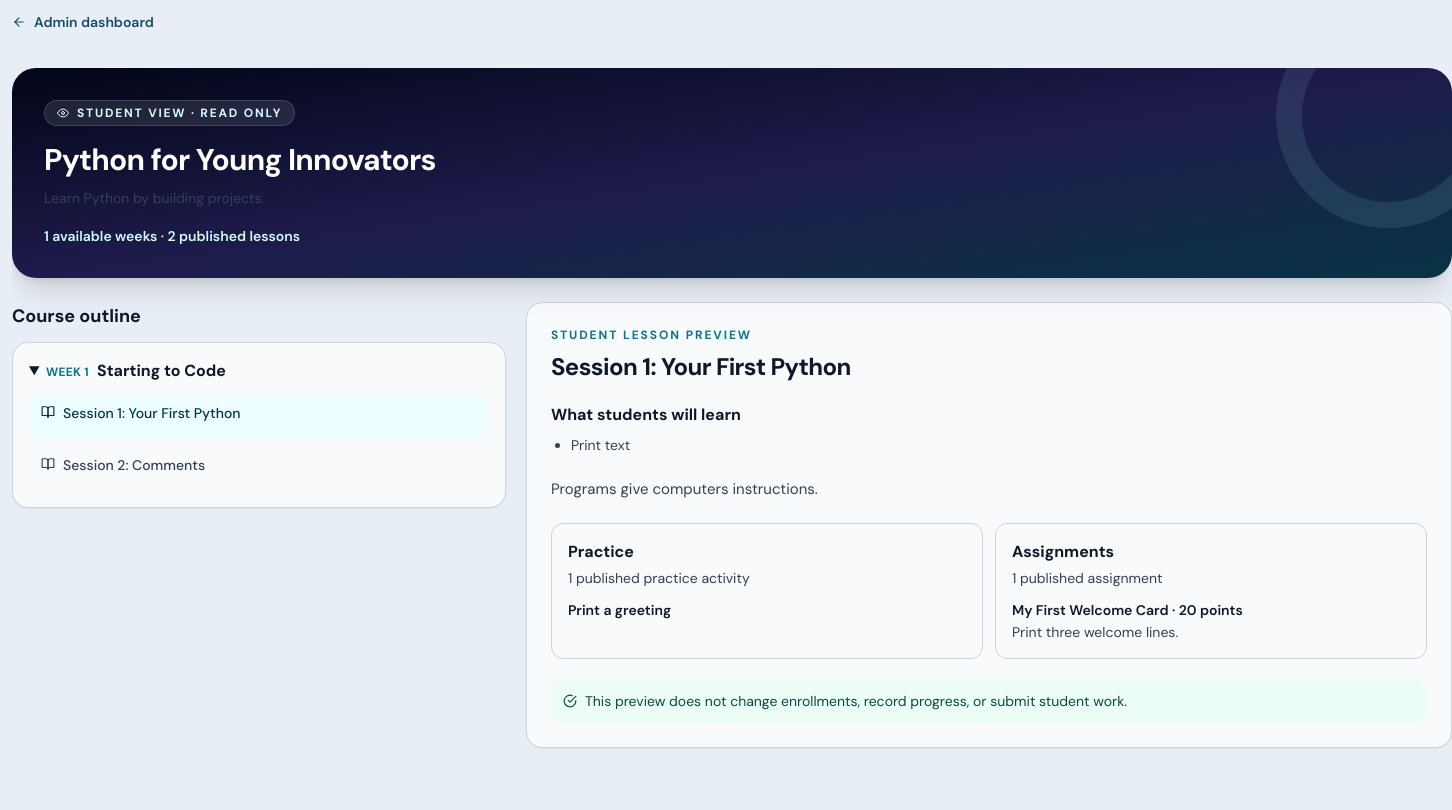
Test: admin student-facing course preview › lets the admin switch lessons in the outline
This screenshot has width=1452, height=810.
Click the button "Session 2: Comments".
click(134, 465)  # box [29, 447, 489, 491]
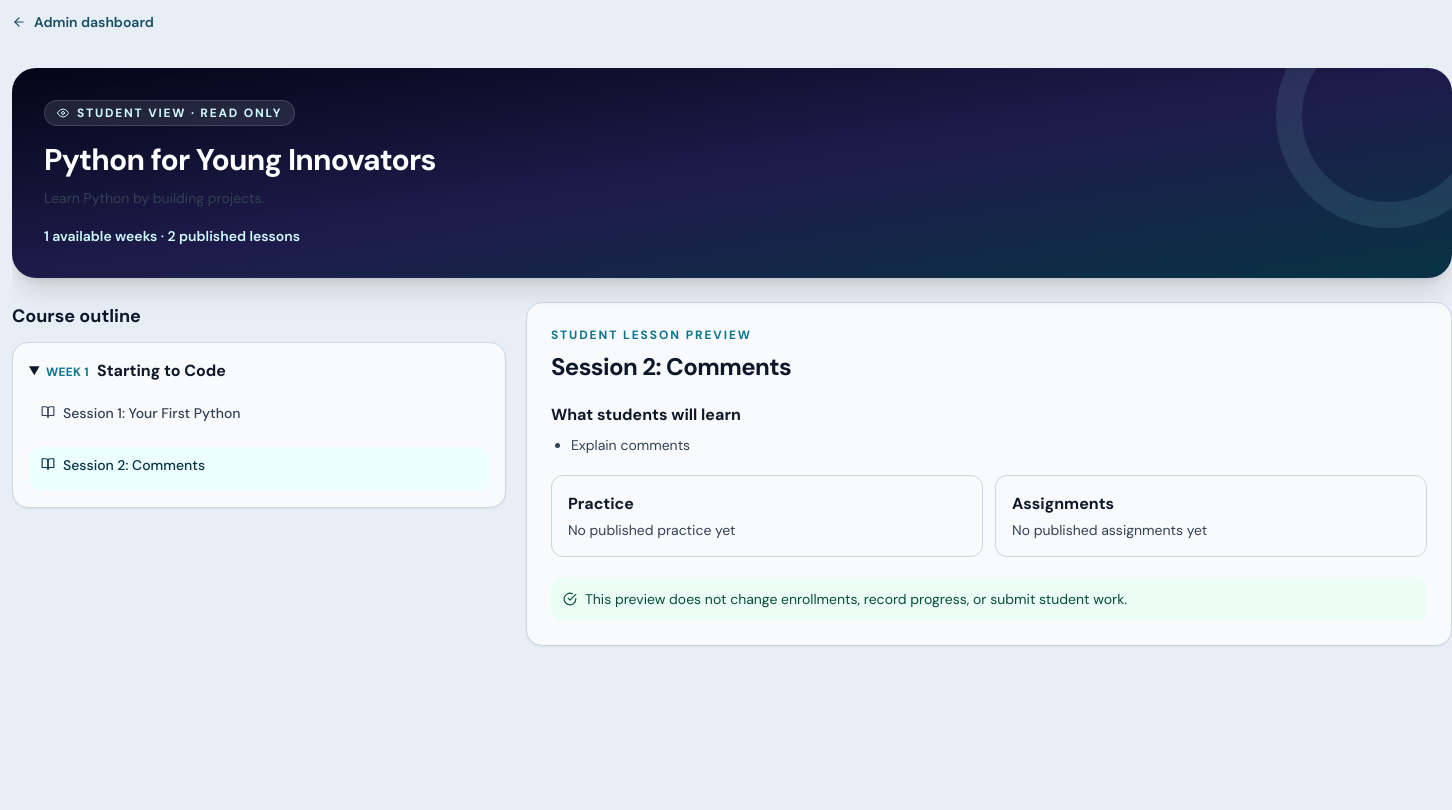
Expected: the heading "Session 2: Comments" is shown, [551, 351, 791, 382]
Expected: the text "No published practice yet" is shown, [568, 521, 735, 539]
Expected: the text "No published assignments yet" is shown, [1012, 521, 1207, 539]
